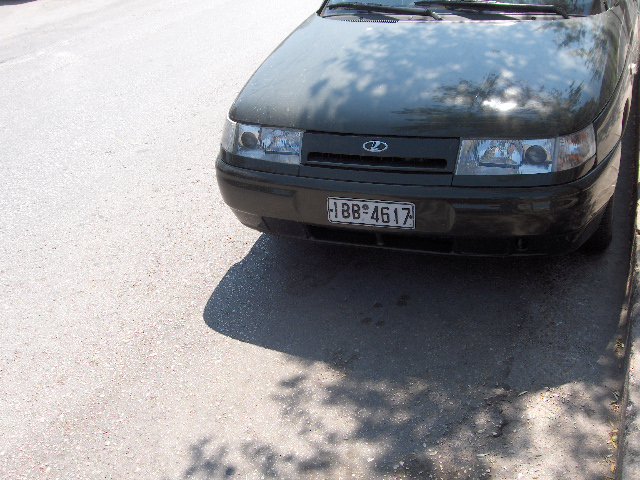licenseplate: (326, 196, 416, 230)
